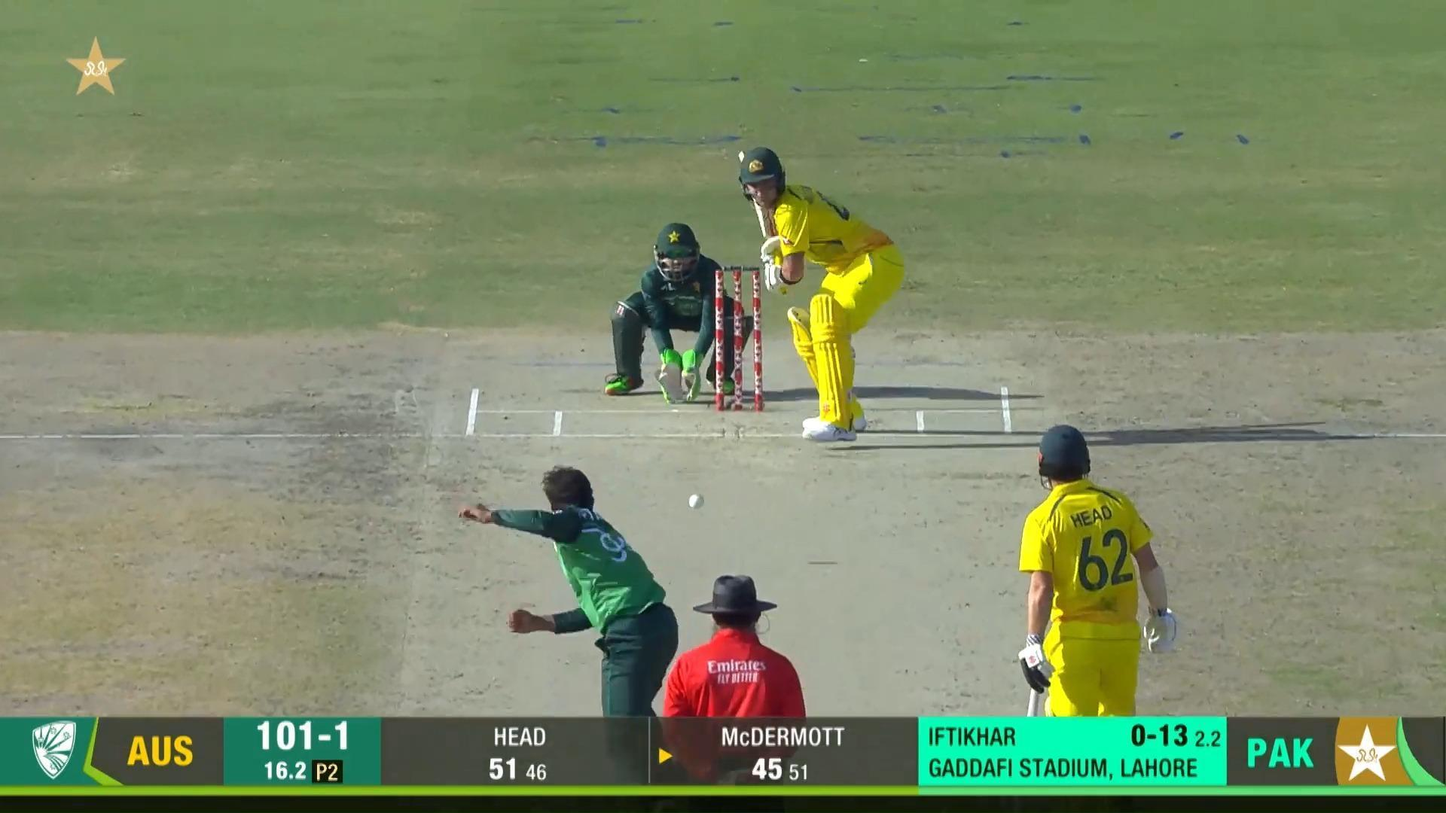BM 1: (736, 144, 906, 443)
BO: (457, 464, 680, 717)
